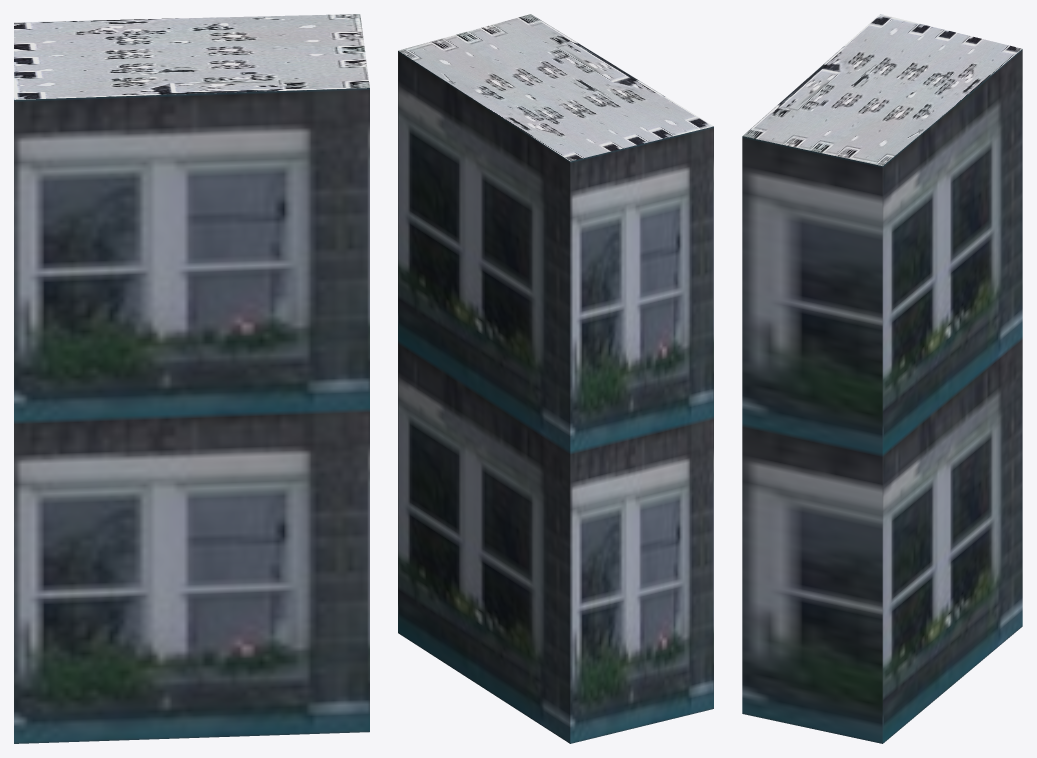
Rendered from ResTex__4382.fbx.
The picture shows the model from 3 angles, left to right: view 1: azimuth 30°, elevation 25°; view 2: azimuth 150°, elevation 25°; view 3: azimuth 270°, elevation 25°; orthographic projection. The views are drawn at different scales.
Visible parts, largest first — view 1: CityEngineMaterial_11_m, CityEngineMaterial_4_m; view 2: CityEngineMaterial_11_m, CityEngineMaterial_4_m; view 3: CityEngineMaterial_11_m, CityEngineMaterial_4_m.
Boxes of the visible parts, x1,y1,x2,y2 form: CityEngineMaterial_11_m: [14, 88, 369, 743]; CityEngineMaterial_4_m: [14, 14, 369, 99]; CityEngineMaterial_11_m: [398, 51, 713, 743]; CityEngineMaterial_4_m: [398, 14, 713, 161]; CityEngineMaterial_11_m: [742, 49, 1022, 743]; CityEngineMaterial_4_m: [742, 14, 1022, 165].
Size of the model in its own units: 3.39 by 6 by 2.64.
2 materials, 2 textured.
